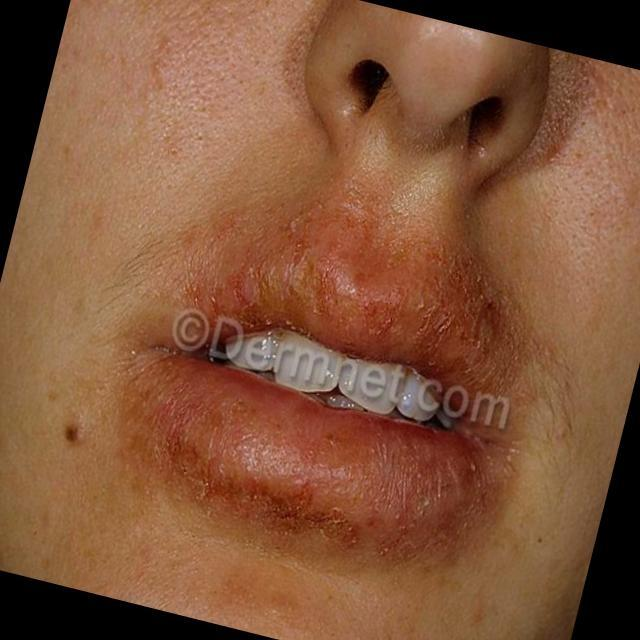Eczema: (93, 230, 515, 560)
